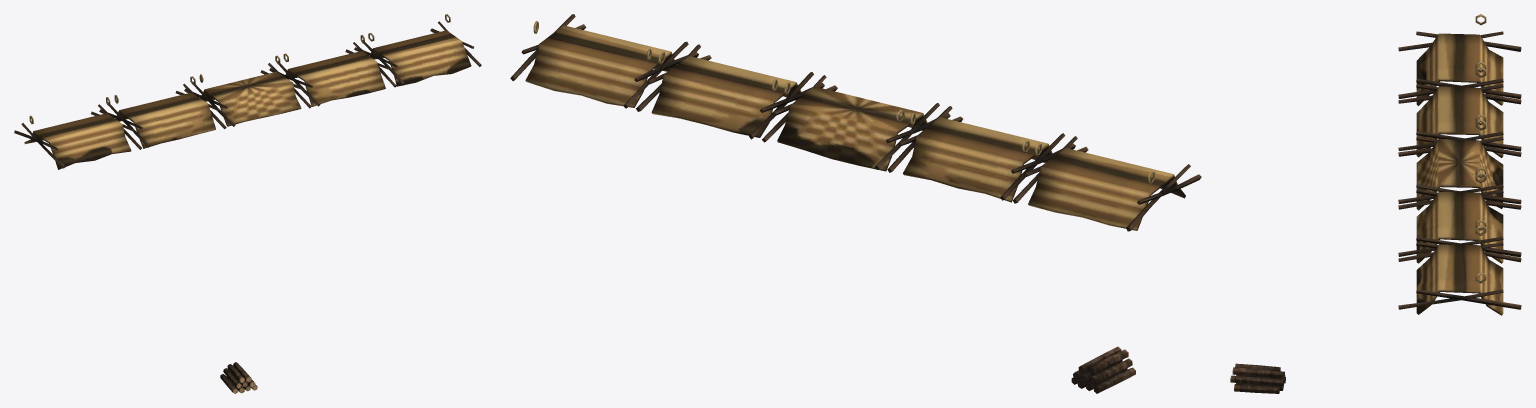
File: longhouse_mats.gltf
3 renders of one model, left to right at view 1: azimuth 30°, elevation 25°; view 2: azimuth 150°, elevation 25°; view 3: azimuth 270°, elevation 25°, orthographic. The views are drawn at different scales.
Parts seen in each view (by area): view 1: longhouse_mats; view 2: longhouse_mats; view 3: longhouse_mats.
Boxes of the visible parts, x1,y1,x2,y2 form: longhouse_mats: [14, 14, 481, 393]; longhouse_mats: [510, 14, 1201, 393]; longhouse_mats: [1230, 14, 1521, 393].
Bounding box in the file's own units: 6.92 × 3.71 × 3.27.
4 materials, 4 textured.
